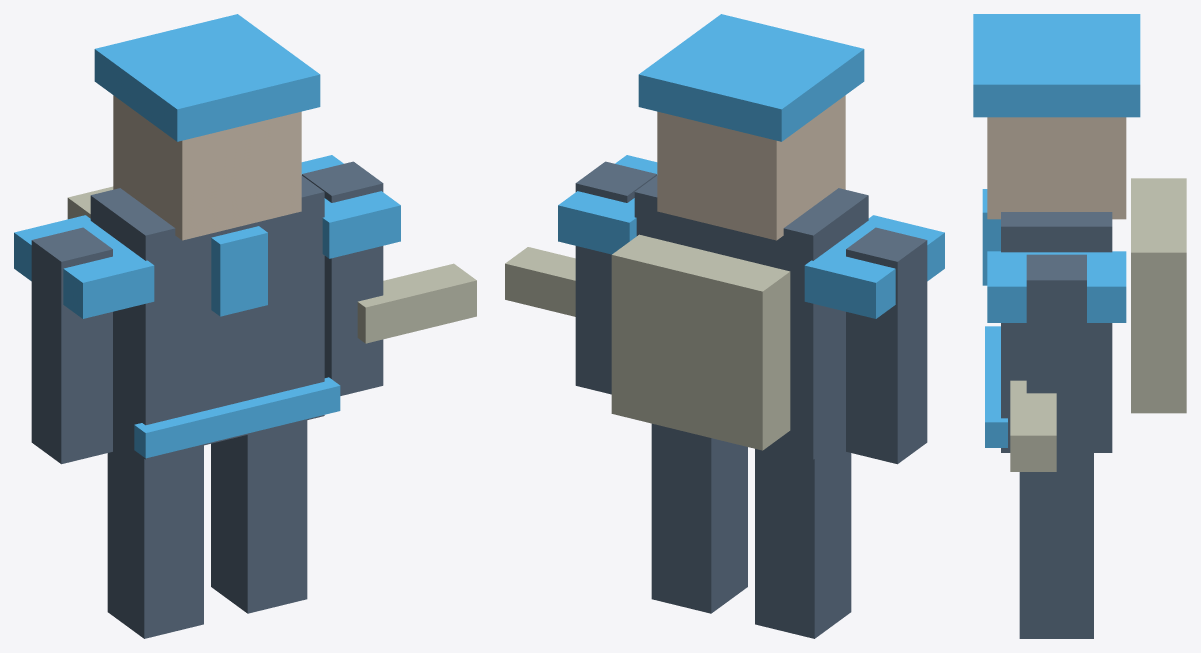
File: 15_korra_nullborne_operator_near_breach.glb
3 renders of one model, left to right at view 1: azimuth 30°, elevation 25°; view 2: azimuth 150°, elevation 25°; view 3: azimuth 270°, elevation 25°, orthographic.
Visible parts, largest first — view 1: Korra Nullborne, Operator near Breach; view 2: Korra Nullborne, Operator near Breach; view 3: Korra Nullborne, Operator near Breach.
Part boxes in pixels (x1=…): Korra Nullborne, Operator near Breach: x1=14, y1=14, x2=476, y2=638; Korra Nullborne, Operator near Breach: x1=505, y1=14, x2=944, y2=638; Korra Nullborne, Operator near Breach: x1=973, y1=14, x2=1186, y2=638.
Bounding box in the file's own units: 1.11 × 1.42 × 0.499.
